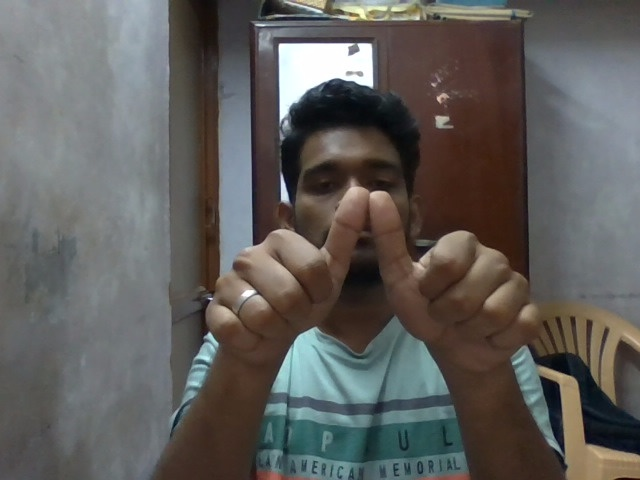A: (204, 182, 545, 387)
